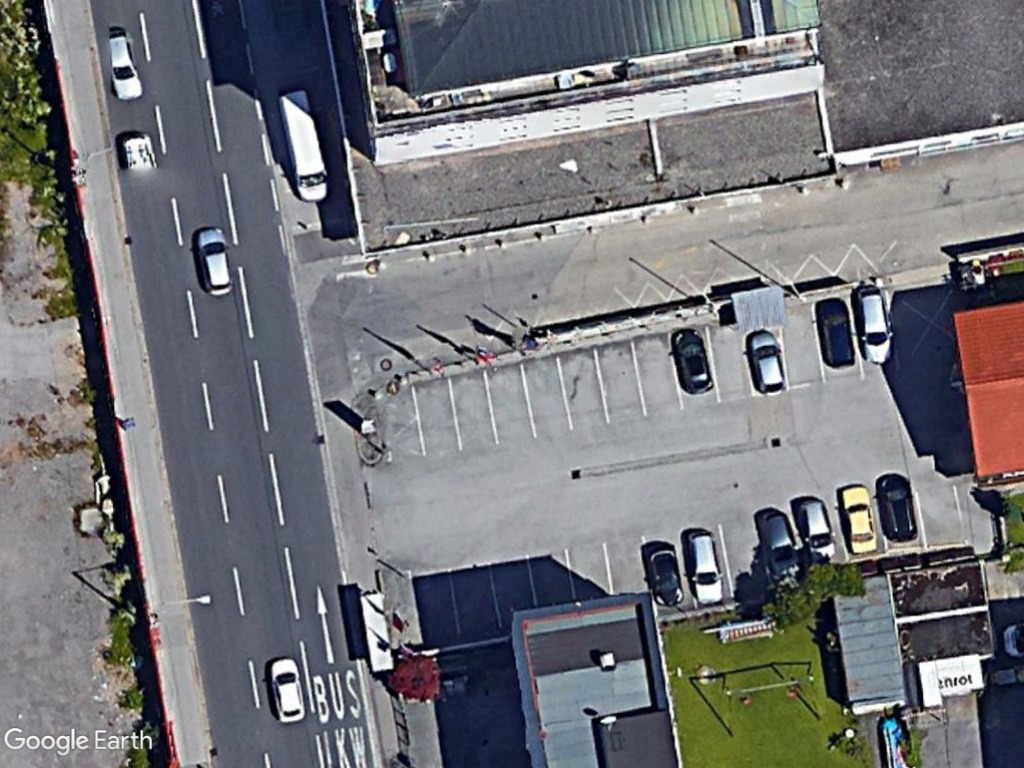car: (678, 526, 732, 612), (849, 284, 899, 369), (261, 652, 314, 730), (188, 223, 239, 301), (833, 481, 883, 559), (667, 326, 717, 401), (816, 295, 861, 375), (873, 470, 921, 544), (744, 328, 790, 399)
van: (269, 86, 335, 205)
